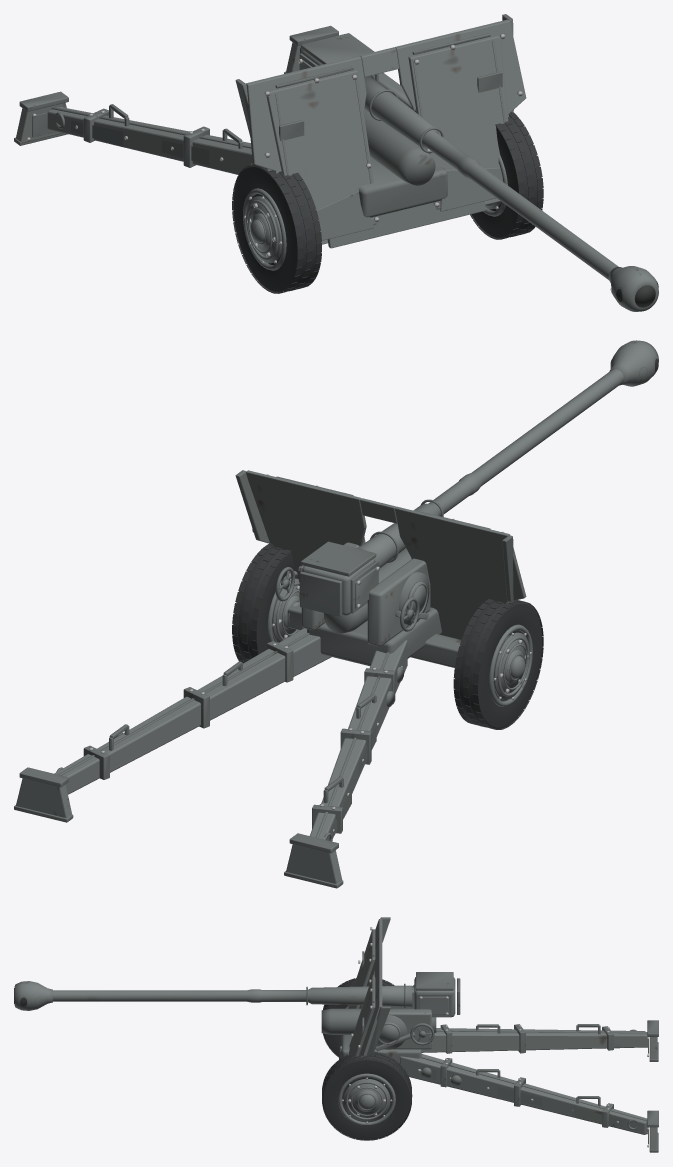
The model's file is qf17-visual-prop.glb.
3 views of the same model, one above another, from view 1: azimuth 30°, elevation 25°; view 2: azimuth 150°, elevation 25°; view 3: azimuth 270°, elevation 25° (orthographic). The views are drawn at different scales.
Visible parts, largest first — view 1: QF17_Shield_Assembly-QF17_paint.015-batch, QF17_Barrel_Exterior-QF17_paint.015-batch, QF17_Shield_Assembly-QF17_fitting.015-batch, QF17_Carriage_Exterior-QF17_fitting.015-batch, QF17_PGF_Tire, QF17_Trail_Left_Exterior-QF17_paint.015-batch, QF17_Trail_Left_Exterior-QF17_fitting.015-batch, QF17_PGF_Tire001, QF17_Wheel_Left_Pivot-QF17_wheel.015-batch, QF17_Wheel_Left_Pivot-QF17_fitting.015-batch, QF17_Cosmetic_Fittings-QF17_fitting.015-batch, QF17_Carriage_Exterior-QF17_paint.015-batch (+2 smaller); view 2: QF17_Shield_Assembly-QF17_paint.015-batch, QF17_Carriage_Exterior-QF17_fitting.015-batch, QF17_Trail_Right_Exterior-QF17_paint.015-batch, QF17_PGF_Tire, QF17_Barrel_Exterior-QF17_paint.015-batch, QF17_Trail_Left_Exterior-QF17_paint.015-batch, QF17_Carriage_Exterior-QF17_paint.015-batch, QF17_PGF_Tire001, QF17_Trail_Left_Exterior-QF17_fitting.015-batch, QF17_Trail_Right_Exterior-QF17_fitting.015-batch, QF17_Wheel_Left_Pivot-QF17_wheel.015-batch, QF17_Shield_Assembly-QF17_fitting.015-batch (+3 smaller); view 3: QF17_Barrel_Exterior-QF17_paint.015-batch, QF17_PGF_Tire001, QF17_Trail_Left_Exterior-QF17_paint.015-batch, QF17_Trail_Right_Exterior-QF17_paint.015-batch, QF17_Carriage_Exterior-QF17_fitting.015-batch, QF17_Trail_Right_Exterior-QF17_fitting.015-batch, QF17_Carriage_Exterior-QF17_paint.015-batch, QF17_Shield_Assembly-QF17_paint.015-batch, QF17_Wheel_Right_Pivot-QF17_wheel.015-batch, QF17_Trail_Left_Exterior-QF17_fitting.015-batch, QF17_Shield_Assembly-QF17_fitting.015-batch, QF17_Wheel_Right_Pivot-QF17_fitting.015-batch (+2 smaller).
Boxes of the visible parts, box(x1,y1,x2,y2) form: QF17_Shield_Assembly-QF17_paint.015-batch: box(246, 19, 526, 252); QF17_Barrel_Exterior-QF17_paint.015-batch: box(364, 76, 658, 311); QF17_Shield_Assembly-QF17_fitting.015-batch: box(235, 14, 513, 248); QF17_Carriage_Exterior-QF17_fitting.015-batch: box(299, 33, 447, 217); QF17_PGF_Tire: box(232, 164, 321, 293); QF17_Trail_Left_Exterior-QF17_paint.015-batch: box(16, 102, 252, 174); QF17_Trail_Left_Exterior-QF17_fitting.015-batch: box(14, 91, 254, 167); QF17_PGF_Tire001: box(470, 112, 543, 239); QF17_Wheel_Left_Pivot-QF17_wheel.015-batch: box(243, 188, 286, 270); QF17_Wheel_Left_Pivot-QF17_fitting.015-batch: box(246, 196, 282, 263); QF17_Cosmetic_Fittings-QF17_fitting.015-batch: box(279, 71, 502, 140); QF17_Carriage_Exterior-QF17_paint.015-batch: box(300, 50, 416, 112); QF17_Shield_Assembly-QF17_paint.015-batch: box(246, 470, 526, 639); QF17_Carriage_Exterior-QF17_fitting.015-batch: box(287, 541, 461, 668); QF17_Trail_Right_Exterior-QF17_paint.015-batch: box(16, 628, 331, 817); QF17_PGF_Tire: box(453, 599, 543, 729); QF17_Barrel_Exterior-QF17_paint.015-batch: box(358, 340, 658, 568); QF17_Trail_Left_Exterior-QF17_paint.015-batch: box(286, 640, 407, 883); QF17_Carriage_Exterior-QF17_paint.015-batch: box(301, 542, 430, 646); QF17_PGF_Tire001: box(232, 543, 294, 663); QF17_Trail_Left_Exterior-QF17_fitting.015-batch: box(284, 652, 404, 888); QF17_Trail_Right_Exterior-QF17_fitting.015-batch: box(14, 632, 309, 822); QF17_Wheel_Left_Pivot-QF17_wheel.015-batch: box(489, 624, 532, 706); QF17_Shield_Assembly-QF17_fitting.015-batch: box(235, 470, 513, 602); QF17_Barrel_Exterior-QF17_paint.015-batch: box(14, 981, 412, 1010); QF17_PGF_Tire001: box(322, 1051, 412, 1140); QF17_Trail_Left_Exterior-QF17_paint.015-batch: box(421, 1028, 657, 1059); QF17_Trail_Right_Exterior-QF17_paint.015-batch: box(400, 1054, 657, 1149); QF17_Carriage_Exterior-QF17_fitting.015-batch: box(321, 972, 460, 1063); QF17_Trail_Right_Exterior-QF17_fitting.015-batch: box(421, 1056, 658, 1152); QF17_Carriage_Exterior-QF17_paint.015-batch: box(375, 977, 455, 1051); QF17_Shield_Assembly-QF17_paint.015-batch: box(348, 919, 382, 1057); QF17_Wheel_Right_Pivot-QF17_wheel.015-batch: box(338, 1073, 395, 1125); QF17_Trail_Left_Exterior-QF17_fitting.015-batch: box(436, 1020, 658, 1061); QF17_Shield_Assembly-QF17_fitting.015-batch: box(339, 917, 390, 1059); QF17_Wheel_Right_Pivot-QF17_fitting.015-batch: box(343, 1078, 390, 1121).
Bounding box in the file's own units: 3.33 × 1.97 × 8.38.
Materials: 6 (3 with a texture image).
